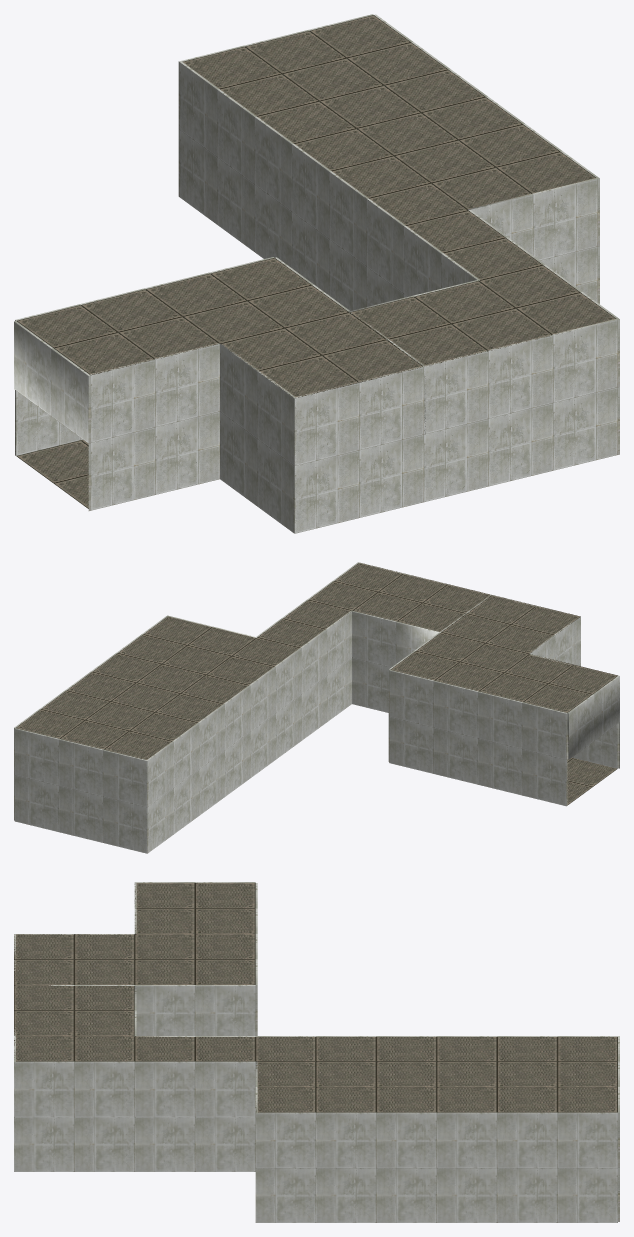
The model's file is Level1_TEST.fbx.
3 renders of one model, top to bottom at view 1: azimuth 30°, elevation 25°; view 2: azimuth 150°, elevation 25°; view 3: azimuth 270°, elevation 25°, orthographic. The views are drawn at different scales.
Visible parts, largest first — view 1: Wall, Roof, Floor; view 2: Wall, Roof, Floor; view 3: Wall, Roof.
Boxes of the visible parts, x1,y1,x2,y2 form: Wall: [14, 14, 619, 533]; Roof: [16, 15, 616, 397]; Floor: [16, 440, 88, 508]; Wall: [14, 562, 619, 853]; Roof: [16, 563, 617, 759]; Floor: [567, 757, 616, 805]; Wall: [14, 882, 619, 1222]; Roof: [14, 883, 617, 1112].
Bounding box in the file's own units: 13600 × 3000 × 15050.
